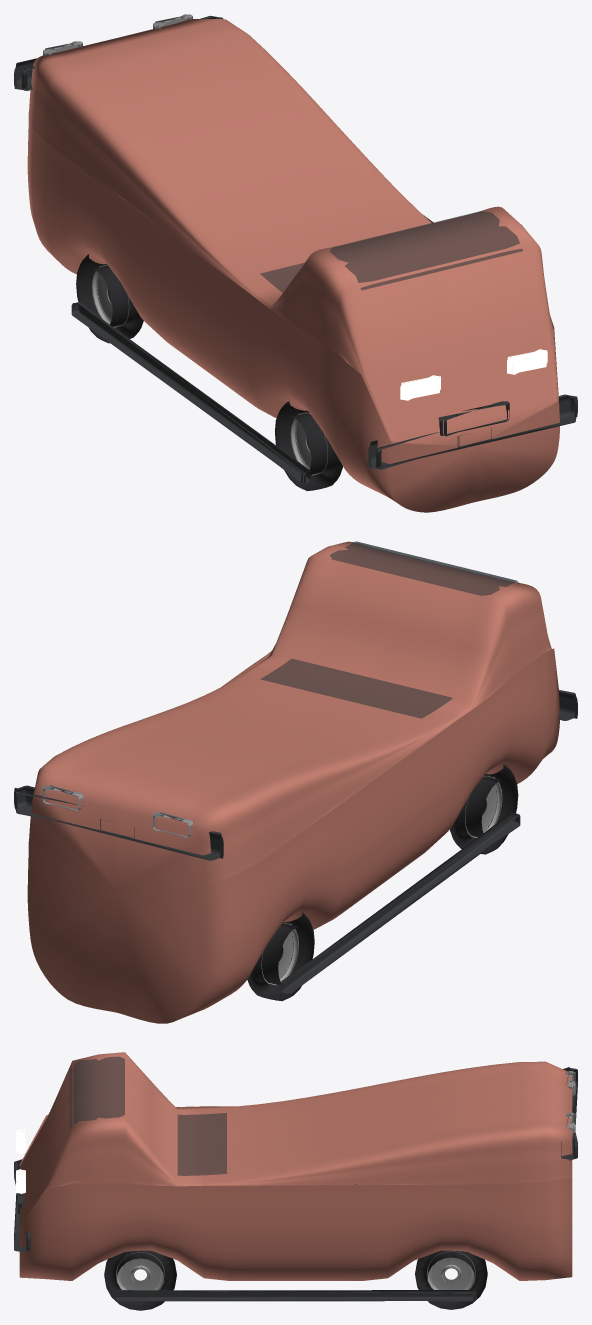
Rendered from traffic-truck.glb.
3 views of the same model, one above another, from view 1: azimuth 30°, elevation 25°; view 2: azimuth 150°, elevation 25°; view 3: azimuth 270°, elevation 25° (orthographic). The views are drawn at different scales.
Parts seen in each view (by area): view 1: body, glass, trim, wheel_fl_tire, wheel_rl_tire, lights_front; view 2: body, glass, trim, wheel_rl_tire, wheel_fl_tire, lights_rear; view 3: body, glass, trim, wheel_fr_tire, wheel_rr_tire, wheel_rr_disc, wheel_fr_disc, lights_front, wheel_rr_rim, wheel_fr_rim.
Boxes of the visible parts, bbox=[...] form: body: bbox=[27, 19, 559, 512]; glass: bbox=[260, 211, 522, 292]; trim: bbox=[14, 15, 577, 483]; wheel_fl_tire: bbox=[275, 401, 342, 491]; wheel_rl_tire: bbox=[76, 254, 143, 343]; lights_front: bbox=[400, 349, 547, 400]; body: bbox=[27, 541, 559, 1023]; glass: bbox=[260, 541, 519, 718]; trim: bbox=[14, 690, 577, 993]; wheel_rl_tire: bbox=[247, 912, 314, 1000]; wheel_fl_tire: bbox=[450, 764, 518, 854]; lights_rear: bbox=[43, 785, 192, 837]; body: bbox=[19, 1052, 572, 1280]; glass: bbox=[69, 1056, 226, 1175]; trim: bbox=[14, 1067, 577, 1301]; wheel_fr_tire: bbox=[104, 1250, 176, 1310]; wheel_rr_tire: bbox=[415, 1250, 487, 1309]; wheel_rr_disc: bbox=[431, 1257, 471, 1289]; wheel_fr_disc: bbox=[120, 1258, 160, 1290]; lights_front: bbox=[16, 1129, 25, 1194]; wheel_rr_rim: bbox=[426, 1251, 475, 1289]; wheel_fr_rim: bbox=[116, 1252, 165, 1290].
Bounding box in the file's own units: 2.27 × 2.41 × 6.53.
